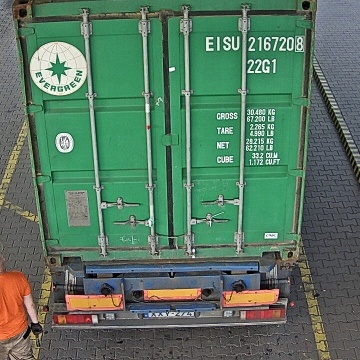serial_id: (206, 36, 304, 50)
